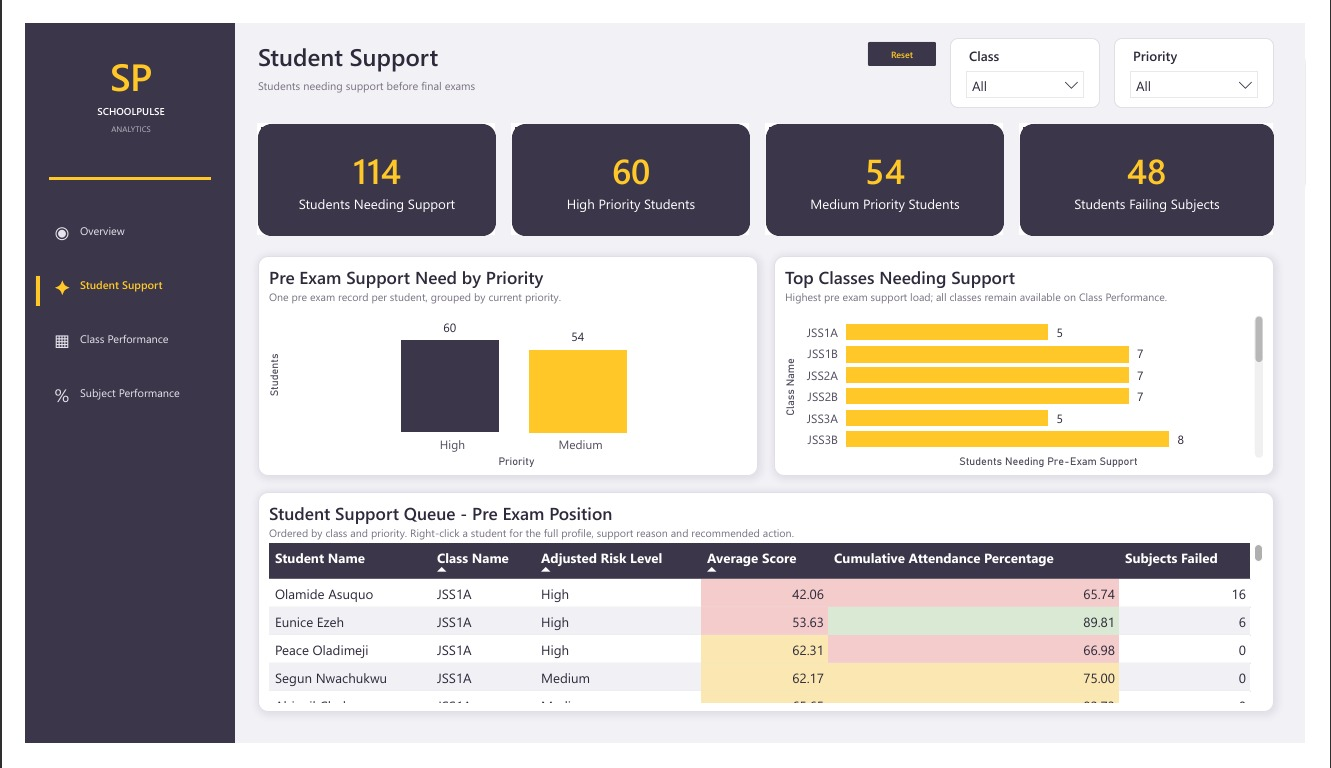

What the dashboard file says about the page in this screenshot:
{"tool":"powerbi","page":{"name":"Student Support","canvas":[1280,720],"ordinal":1},"visuals":[{"type":"shape","box":[0,0,210,720],"z":0},{"type":"textbox","box":[28,26,154,108],"z":1000},{"type":"shape","box":[24,154,162,3],"z":2000},{"type":"shape","box":[10,252,4,30],"z":3000},{"type":"textbox","box":[22,197,28,30],"z":4000},{"type":"textbox","box":[22,251,28,30],"z":5000},{"type":"textbox","box":[22,305,28,30],"z":7000},{"type":"textbox","box":[22,359,28,30],"z":8000},{"type":"textbox","box":[54,305,142,30],"z":9000},{"type":"textbox","box":[54,251,142,30],"z":10000},{"type":"textbox","box":[54,359,142,30],"z":11000},{"type":"textbox","box":[54,197,142,30],"z":12000},{"type":"actionButton","box":[14,190,182,46],"z":14000},{"type":"actionButton","box":[14,244,182,46],"z":15000},{"type":"actionButton","box":[14,298,182,46],"z":16000},{"type":"actionButton","box":[14,352,182,46],"z":17000},{"type":"textbox","box":[232,16,560,34],"z":19000},{"type":"textbox","box":[232,52,650,30],"z":20000},{"type":"slicer","fields":{"Values":["Student Overview.Class Name"]},"box":[924,14,150,70],"z":21000},{"type":"slicer","fields":{"Values":["Support Priority.Priority"]},"box":[1088,14,160,70],"z":22000},{"type":"shape","box":[232,100,238,112],"z":23000},{"type":"cardVisual","fields":{"Data":["Student Overview.Students Needing Pre-Exam Support"]},"box":[232,100,238,112],"z":24000},{"type":"shape","box":[486,100,238,112],"z":25000},{"type":"shape","box":[740,100,238,112],"z":26000},{"type":"cardVisual","fields":{"Data":["Student Overview.Support High Priority Students"]},"box":[486,100,238,112],"z":27000},{"type":"shape","box":[994,100,254,112],"z":28000},{"type":"cardVisual","fields":{"Data":["Student Overview.Support Medium Priority Students"]},"box":[740,100,238,112],"z":29000},{"type":"cardVisual","fields":{"Data":["Student Overview.Support Failing Students"]},"box":[994,100,254,112],"z":30000},{"type":"clusteredColumnChart","title":"Pre Exam Support Need by Priority","fields":{"Category":["Support Priority.Priority"],"Y":["Student Overview.Students Needing Pre-Exam Support"]},"box":[232,232,500,220],"z":31000},{"type":"clusteredBarChart","title":"Top Classes Needing Support","fields":{"Category":["Student Overview.Class Name"],"Y":["Student Overview.Students Needing Pre-Exam Support"]},"box":[748,232,500,220],"z":32000},{"type":"tableEx","title":"Student Support Queue - Pre Exam Position","fields":{"Values":["Pre-Exam Support Snapshot.Student Name","Pre-Exam Support Snapshot.Class Name","Pre-Exam Support Snapshot.Adjusted Risk Level","Pre-Exam Support Snapshot.Average Score","Pre-Exam Support Snapshot.Cumulative Attendance Percentage","Pre-Exam Support Snapshot.Subjects Failed","Student Overview.Student ID"]},"box":[232,468,1016,220],"z":33000},{"type":"shape","box":[842,18,68,24],"z":62000},{"type":"textbox","box":[842,20,68,20],"z":62001},{"type":"actionButton","box":[842,18,68,24],"z":62002}]}

Visuals, with their boxes on the page's 1280x720 design canvas (x1, y1, x2, y2). These are canvas units, not pixel positions in the 1331x768 screenshot, which may show the page scaled, cropped or inside an application window:
shape: select_region(0, 0, 210, 720)
textbox: select_region(28, 26, 182, 134)
shape: select_region(24, 154, 186, 157)
shape: select_region(10, 252, 14, 282)
textbox: select_region(22, 197, 50, 227)
textbox: select_region(22, 251, 50, 281)
textbox: select_region(22, 305, 50, 335)
textbox: select_region(22, 359, 50, 389)
textbox: select_region(54, 305, 196, 335)
textbox: select_region(54, 251, 196, 281)
textbox: select_region(54, 359, 196, 389)
textbox: select_region(54, 197, 196, 227)
actionButton: select_region(14, 190, 196, 236)
actionButton: select_region(14, 244, 196, 290)
actionButton: select_region(14, 298, 196, 344)
actionButton: select_region(14, 352, 196, 398)
textbox: select_region(232, 16, 792, 50)
textbox: select_region(232, 52, 882, 82)
slicer - Student Overview.Class Name: select_region(924, 14, 1074, 84)
slicer - Support Priority.Priority: select_region(1088, 14, 1248, 84)
shape: select_region(232, 100, 470, 212)
cardVisual - Student Overview.Students Needing Pre-Exam Support: select_region(232, 100, 470, 212)
shape: select_region(486, 100, 724, 212)
shape: select_region(740, 100, 978, 212)
cardVisual - Student Overview.Support High Priority Students: select_region(486, 100, 724, 212)
shape: select_region(994, 100, 1248, 212)
cardVisual - Student Overview.Support Medium Priority Students: select_region(740, 100, 978, 212)
cardVisual - Student Overview.Support Failing Students: select_region(994, 100, 1248, 212)
"Pre Exam Support Need by Priority" clusteredColumnChart: select_region(232, 232, 732, 452)
"Top Classes Needing Support" clusteredBarChart: select_region(748, 232, 1248, 452)
"Student Support Queue - Pre Exam Position" tableEx: select_region(232, 468, 1248, 688)
shape: select_region(842, 18, 910, 42)
textbox: select_region(842, 20, 910, 40)
actionButton: select_region(842, 18, 910, 42)
